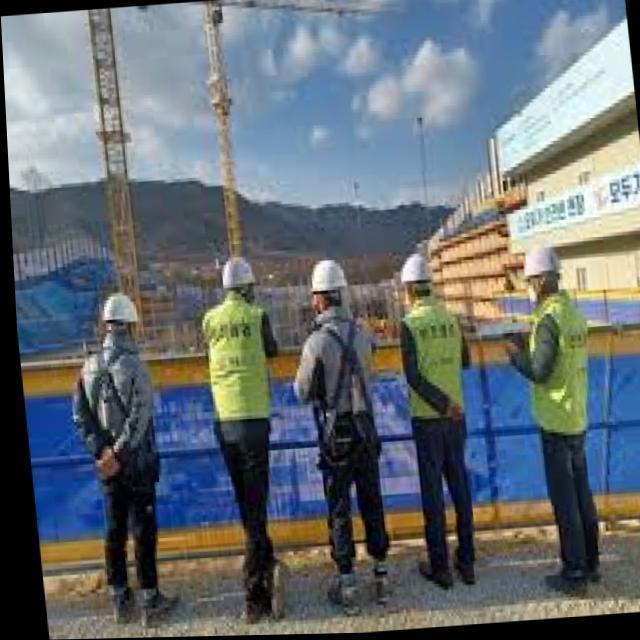Harness: (314, 318, 373, 414)
